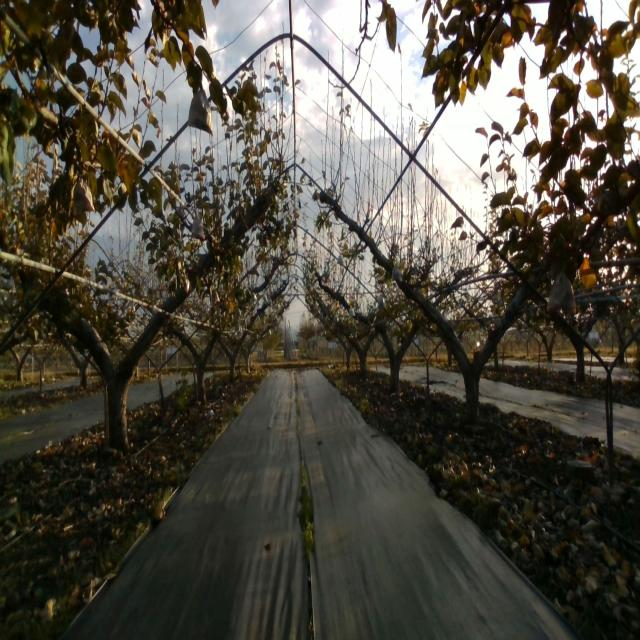pearbags: (547, 270, 576, 315), (68, 174, 96, 218), (187, 89, 213, 136), (191, 213, 205, 241), (391, 263, 403, 283)
